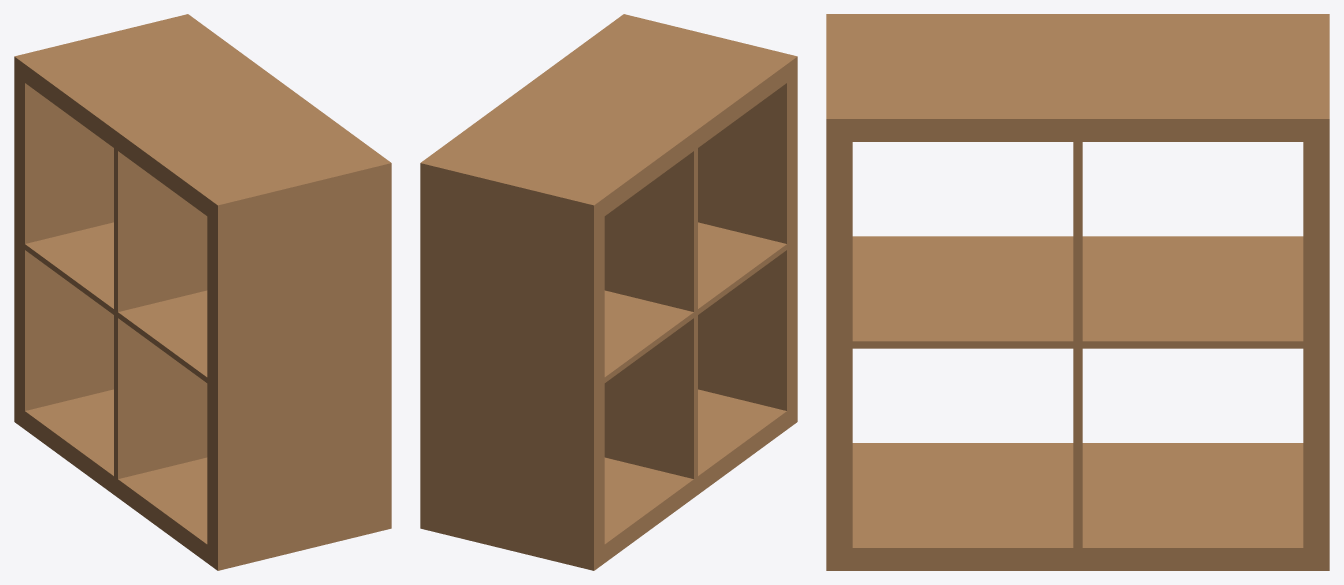
File: shelfB.fbx
3 views of the same model, side by side, from view 1: azimuth 30°, elevation 25°; view 2: azimuth 150°, elevation 25°; view 3: azimuth 270°, elevation 25° (orthographic). The views are drawn at different scales.
Parts seen in each view (by area): view 1: shelfB; view 2: shelfB; view 3: shelfB.
Boxes of the visible parts, left/top/right/bottom form: shelfB: left=14, top=14, right=391, bottom=570; shelfB: left=420, top=14, right=797, bottom=570; shelfB: left=826, top=14, right=1329, bottom=570.
Size of the model in its own units: 0.3393 by 0.6816 by 0.6882.
